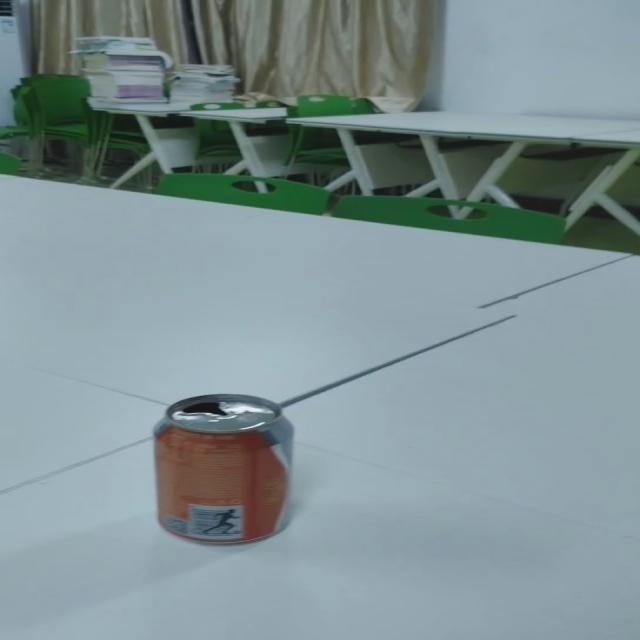can: (154, 396, 292, 544)
